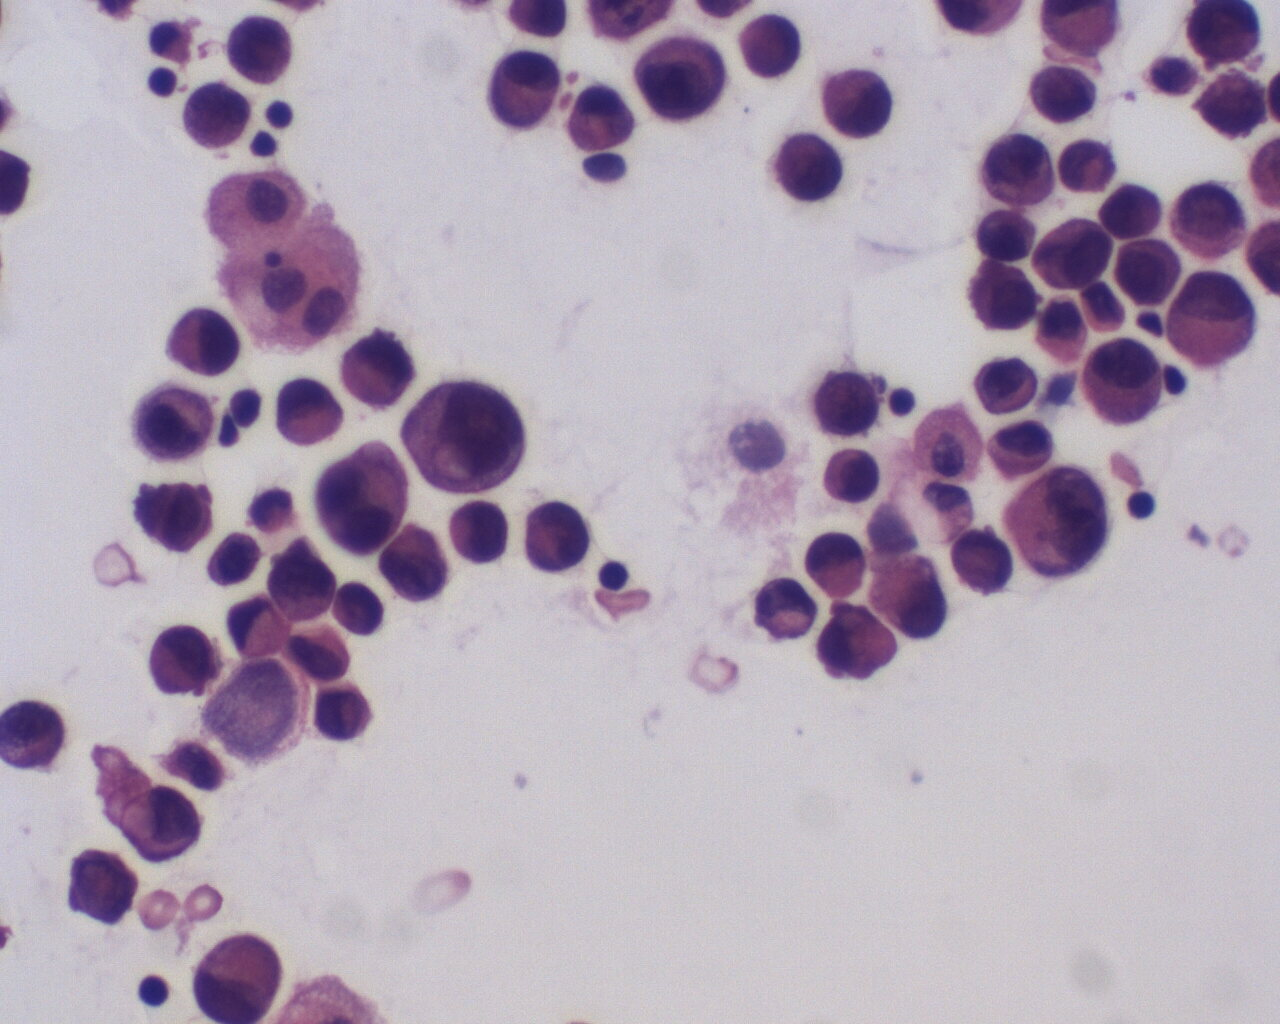ab: (303, 435, 432, 563), (400, 375, 527, 501), (999, 460, 1115, 586), (621, 31, 734, 127), (967, 117, 1067, 214), (333, 319, 422, 414), (1164, 169, 1251, 264), (1078, 334, 1167, 426), (1023, 212, 1115, 295), (1104, 236, 1201, 315), (133, 381, 217, 468), (481, 47, 565, 132), (121, 779, 202, 867), (265, 537, 338, 627), (162, 303, 245, 381), (818, 62, 897, 141), (965, 253, 1039, 338), (177, 76, 253, 156), (148, 620, 223, 700), (270, 372, 347, 448), (519, 496, 591, 576), (771, 131, 842, 210), (732, 15, 809, 88), (225, 13, 300, 85), (812, 362, 878, 439), (1024, 61, 1099, 126), (971, 353, 1041, 421), (310, 681, 378, 749), (820, 441, 882, 504)
lymph: (135, 967, 177, 1011), (141, 65, 188, 102), (1123, 485, 1161, 523), (594, 556, 631, 594)
